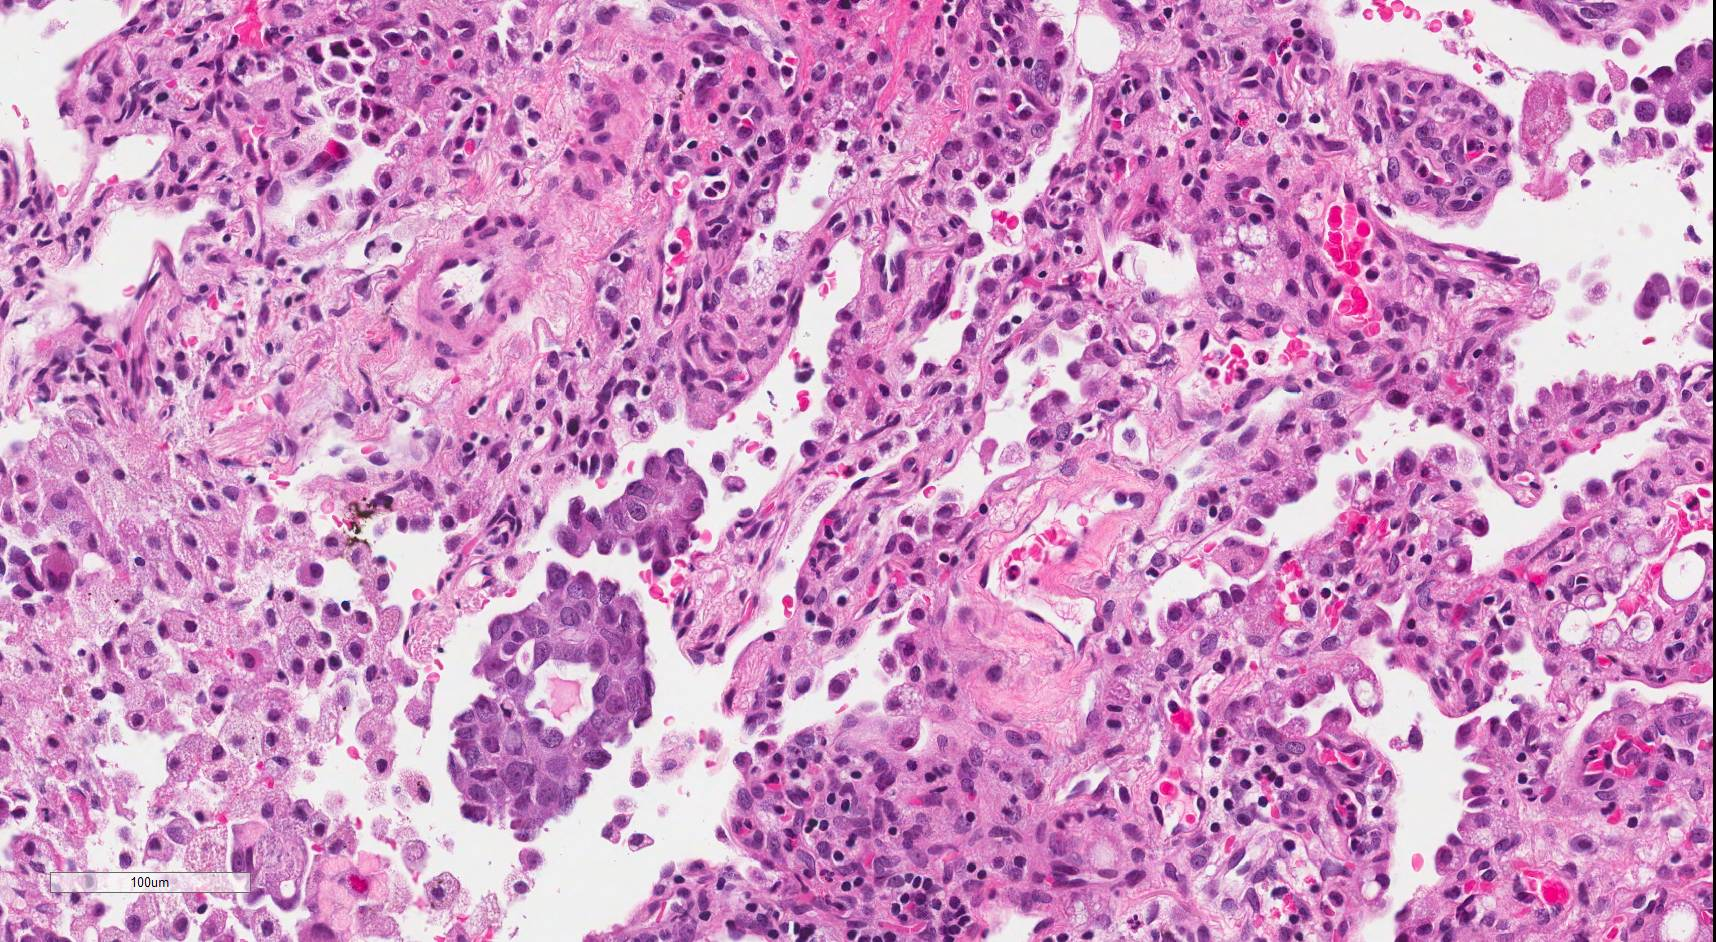stas: (441, 560, 655, 847), (549, 444, 710, 583)
